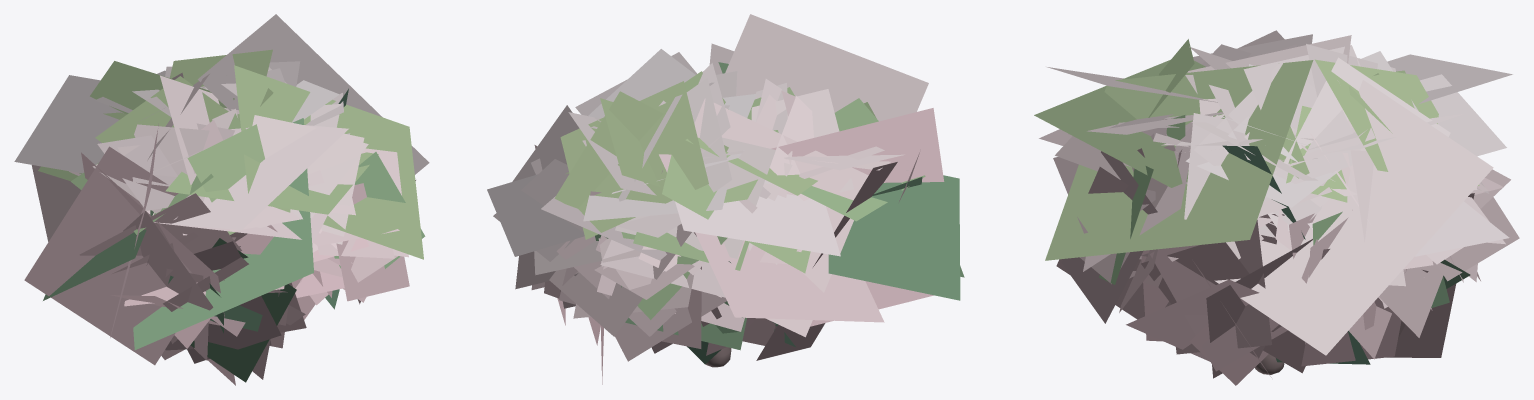
File: crab_apple_v0.glb
3 renders of one model, left to right at view 1: azimuth 30°, elevation 25°; view 2: azimuth 150°, elevation 25°; view 3: azimuth 270°, elevation 25°, orthographic. The views are drawn at different scales.
Visible parts, largest first — view 1: far, near; view 2: near, far; view 3: near, far.
Boxes of the visible parts, x1,y1,x2,y2 form: far: (14,14,429,385); near: (71,49,425,382); near: (487,43,925,367); far: (601,14,964,384); near: (1053,30,1519,385); far: (1034,35,1512,364).
Bounding box in the file's own units: 13.12 × 8.07 × 11.75.
